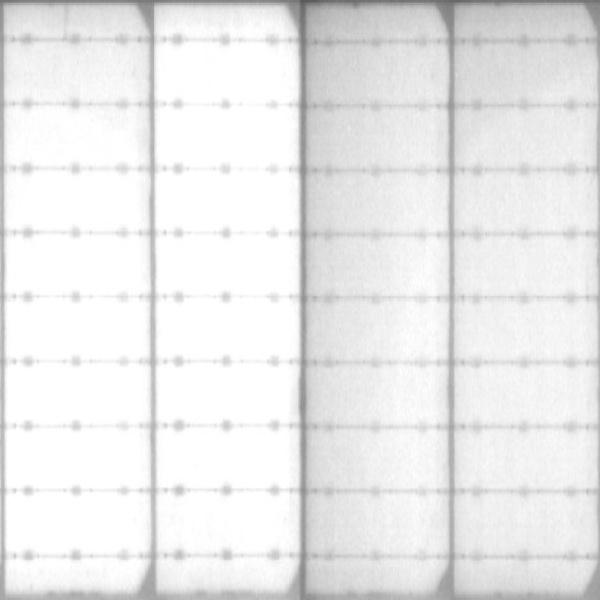hot_spot: (11, 367, 147, 420), (160, 173, 290, 227), (161, 109, 287, 161), (163, 370, 295, 419), (164, 306, 288, 357), (162, 437, 296, 484), (13, 178, 144, 226), (17, 497, 141, 547), (163, 44, 278, 97), (13, 244, 142, 290), (168, 501, 291, 549), (16, 306, 142, 351), (13, 438, 142, 480), (164, 244, 287, 287)
